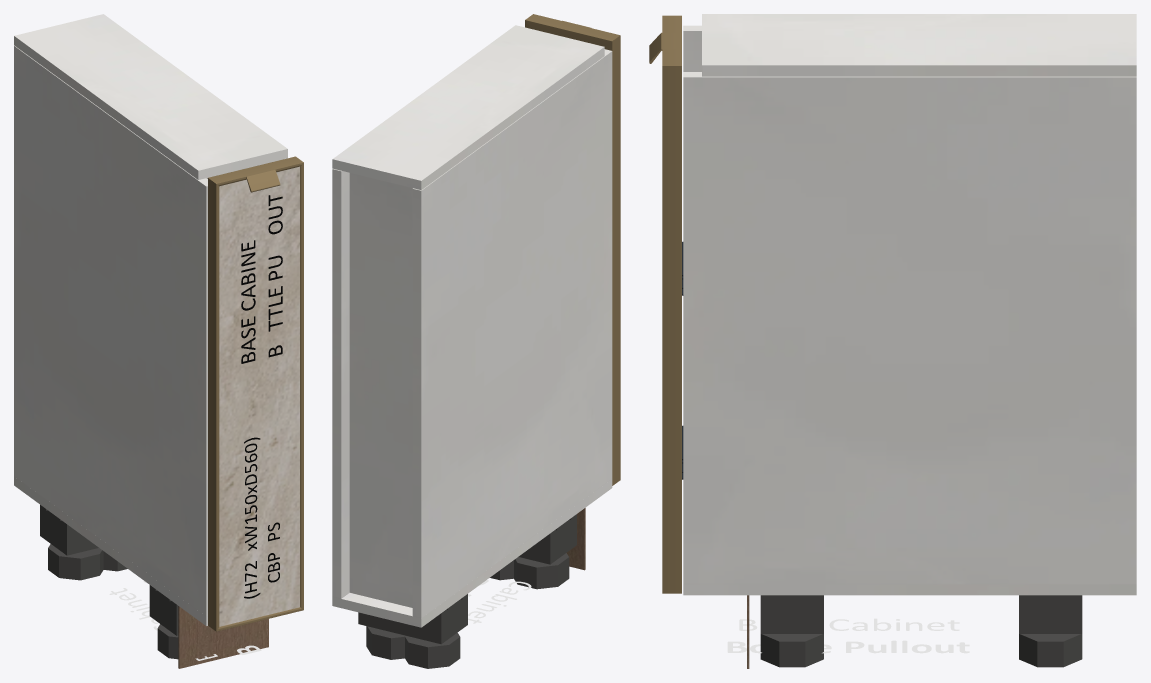
Rendered from BC-AC-TTS-ST-BPO-RHS-XXX-150-720-560-15.glb.
The picture shows the model from 3 angles, left to right: view 1: azimuth 30°, elevation 25°; view 2: azimuth 150°, elevation 25°; view 3: azimuth 270°, elevation 25°; orthographic projection. The views are drawn at different scales.
Parts seen in each view (by area): view 1: TP_node, Object_node_29, TP_node_1, Extrusion_node_4, Object_node_31, TP, Extrusion_node_2, 2D text_node, Foot, Plate, 2D text, Plate_node_0 (+4 smaller); view 2: TP_node, TP_node_2, TP_node_1, TP_node_0, Extrusion_node_4, TP, Foot, Foot_node_0, Plate, Plate_node_0, Foot_node, Extrusion_node (+4 smaller); view 3: TP_node_0, TP_node_1, Extrusion_node_2, TP, Plate_node_1, Plate_node, Foot_node_1, Foot_node, 2D text_node_0, TP_node.
Boxes of the visible parts, x1,y1,x2,y2 form: TP_node: (14, 45, 207, 616); Object_node_29: (219, 166, 299, 626); TP_node_1: (14, 14, 287, 179); Extrusion_node_4: (208, 178, 219, 631); Object_node_31: (178, 606, 268, 668); TP: (14, 476, 207, 625); Extrusion_node_2: (300, 163, 303, 609); 2D text_node: (241, 195, 282, 363); Foot: (48, 544, 103, 580); Plate: (40, 505, 98, 555); 2D text: (244, 437, 279, 598); Plate_node_0: (149, 585, 178, 635); TP_node: (412, 49, 612, 618); TP_node_2: (349, 173, 412, 607); TP_node_1: (332, 25, 604, 190); TP_node_0: (332, 168, 349, 598); Extrusion_node_4: (604, 35, 620, 485); TP: (332, 479, 612, 627); Foot: (404, 633, 460, 668); Foot_node_0: (514, 553, 569, 589); Plate: (396, 594, 467, 644); Plate_node_0: (518, 514, 576, 564); Foot_node: (366, 626, 404, 659); Extrusion_node: (525, 14, 619, 46); TP_node_0: (683, 72, 1136, 584); TP_node_1: (702, 14, 1136, 76); Extrusion_node_2: (662, 66, 681, 593); TP: (683, 584, 1136, 595); Plate_node_1: (760, 595, 823, 633); Plate_node: (1019, 595, 1082, 633); Foot_node_1: (760, 634, 823, 667); Foot_node: (1019, 634, 1082, 667); 2D text_node_0: (727, 618, 969, 653); TP_node: (683, 25, 701, 71).
Size of what is drawn, in the model's own units: 0.15 by 0.82 by 0.6.
Materials: 9 (3 with a texture image).
